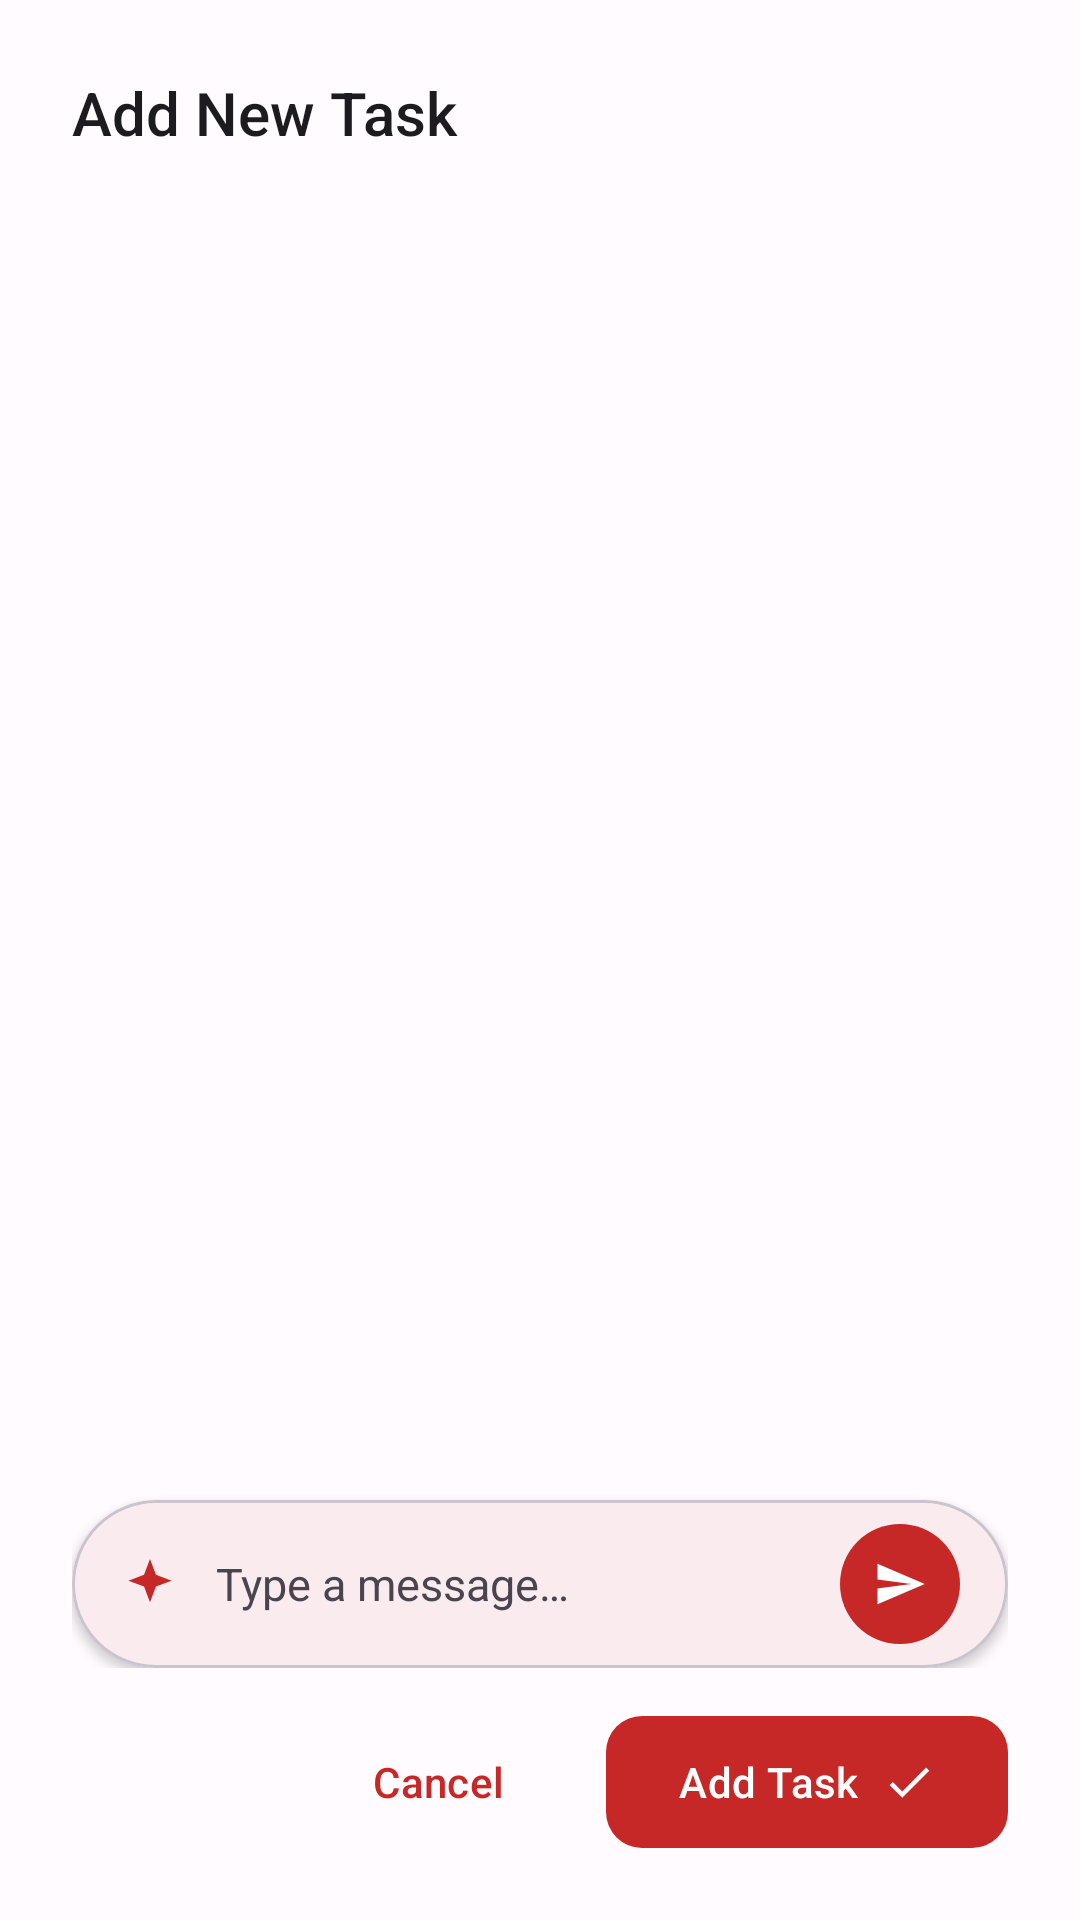

Screen size 1080x1920. Icon name, then its center in pixels as (x,y):
Send: (900,1584)
